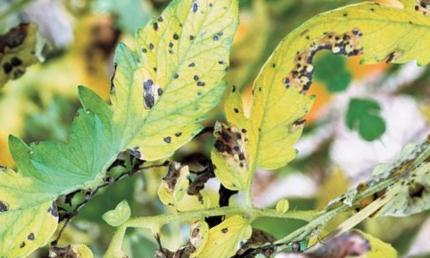Tomato leaf bacterial spot: (70, 0, 304, 172), (177, 30, 365, 206)
